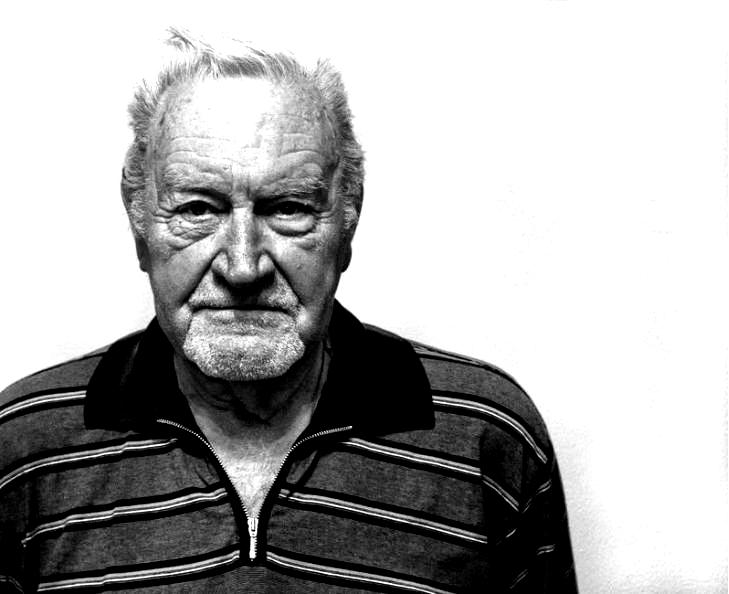face: (145, 79, 336, 379)
